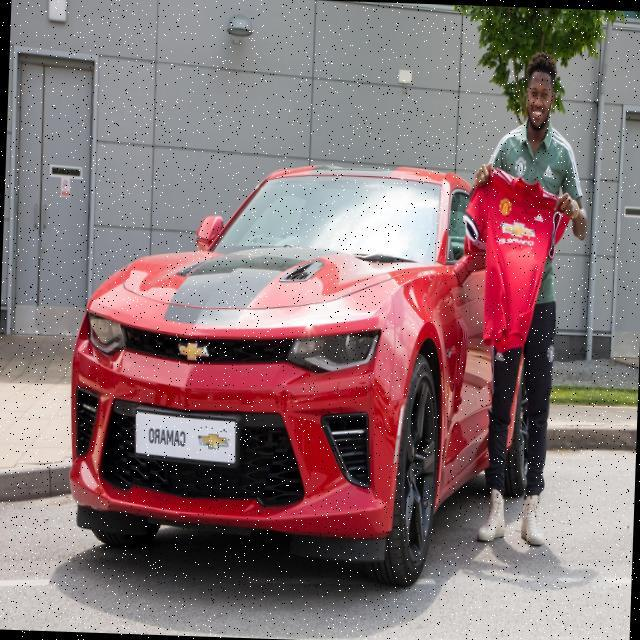Chevrolet: (495, 216, 536, 249), (175, 329, 212, 365), (198, 425, 230, 453)
